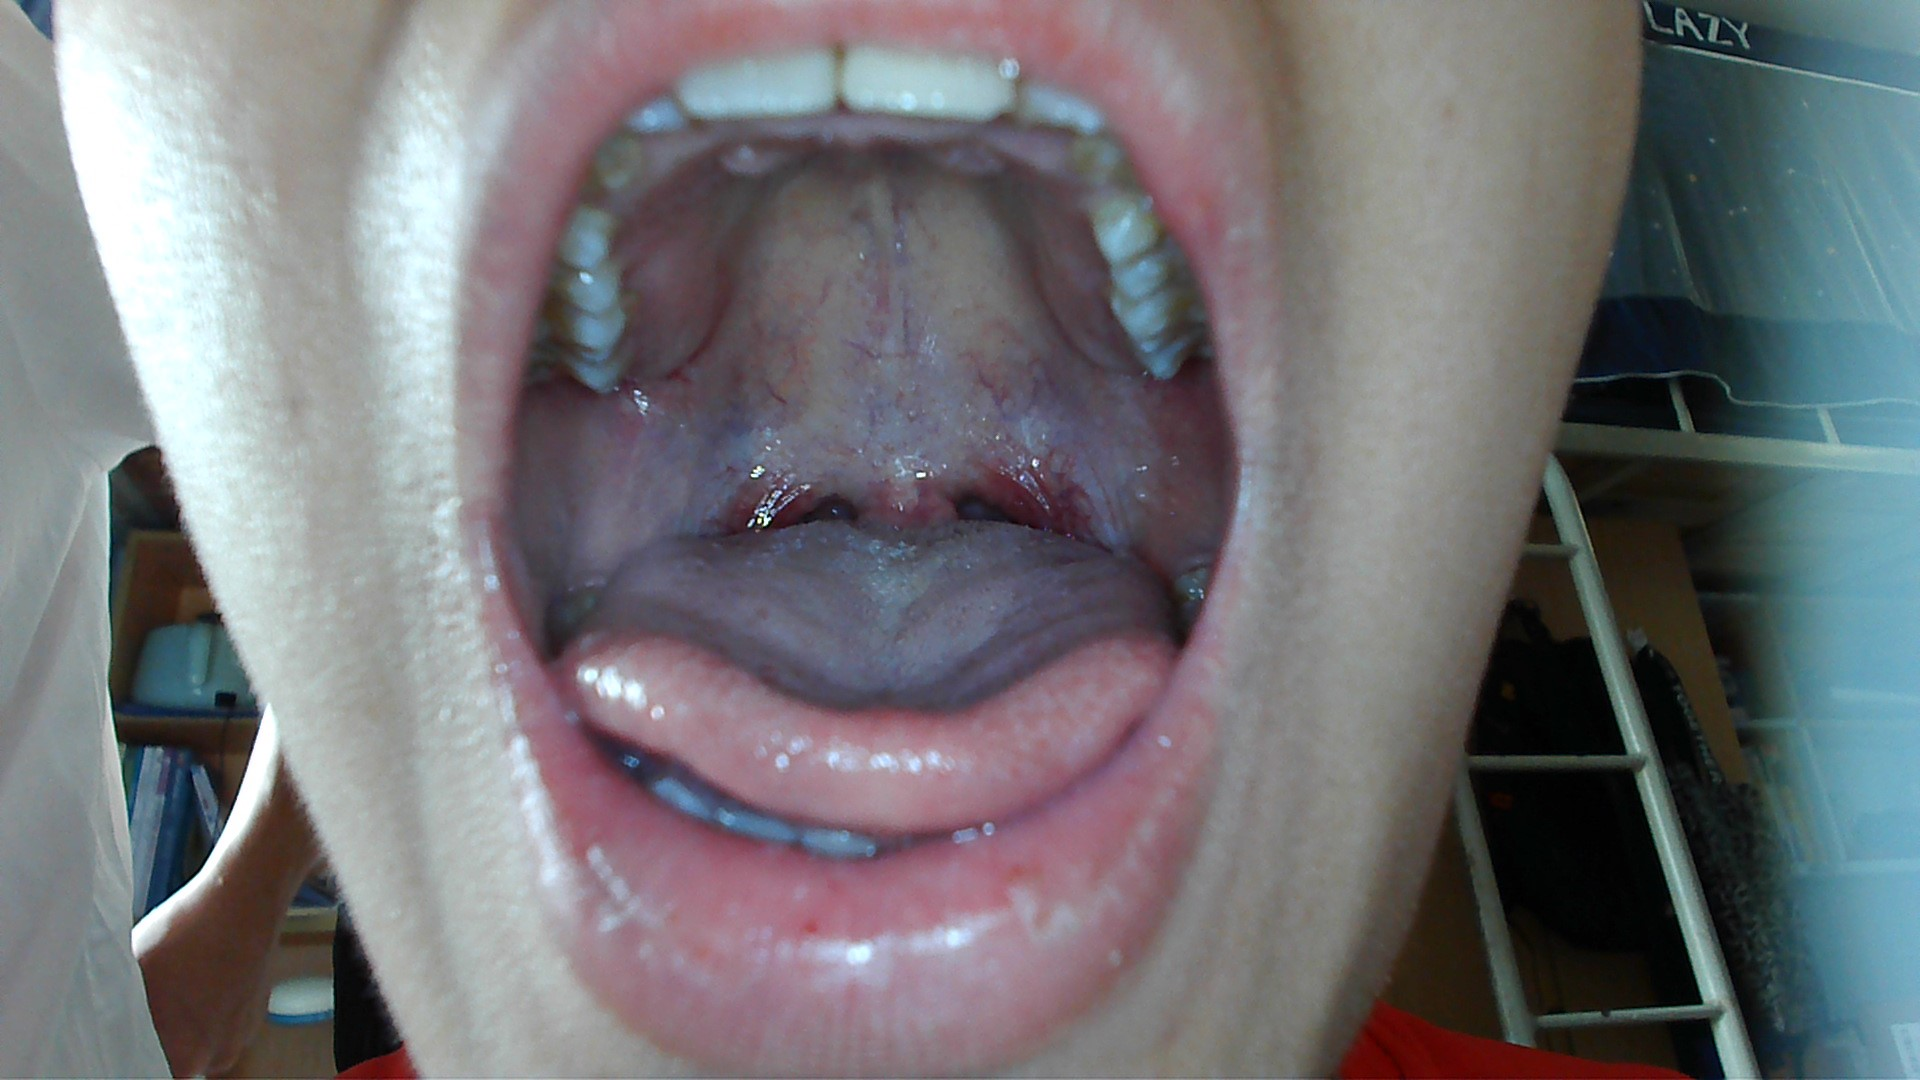throat: (713, 460, 855, 541), (982, 456, 1102, 541)
